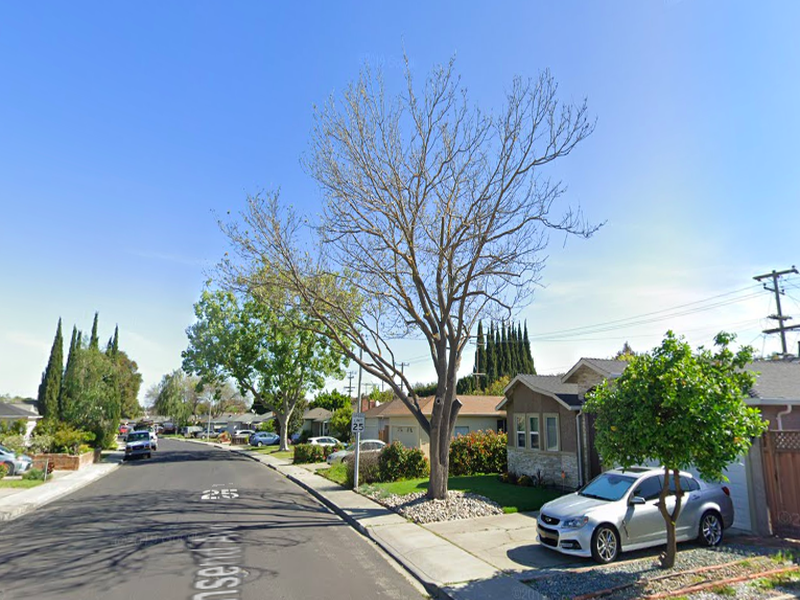tree: (207, 46, 610, 502), (577, 330, 771, 571), (183, 276, 354, 455)
